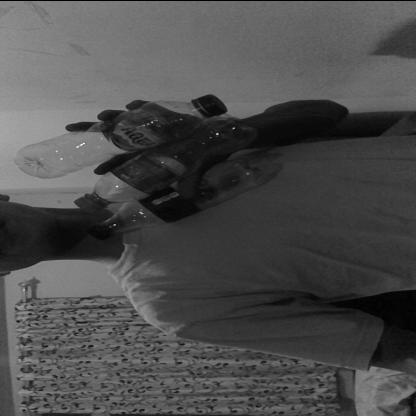plastic_bottles: (10, 93, 228, 179), (73, 112, 257, 212), (85, 156, 273, 240)
